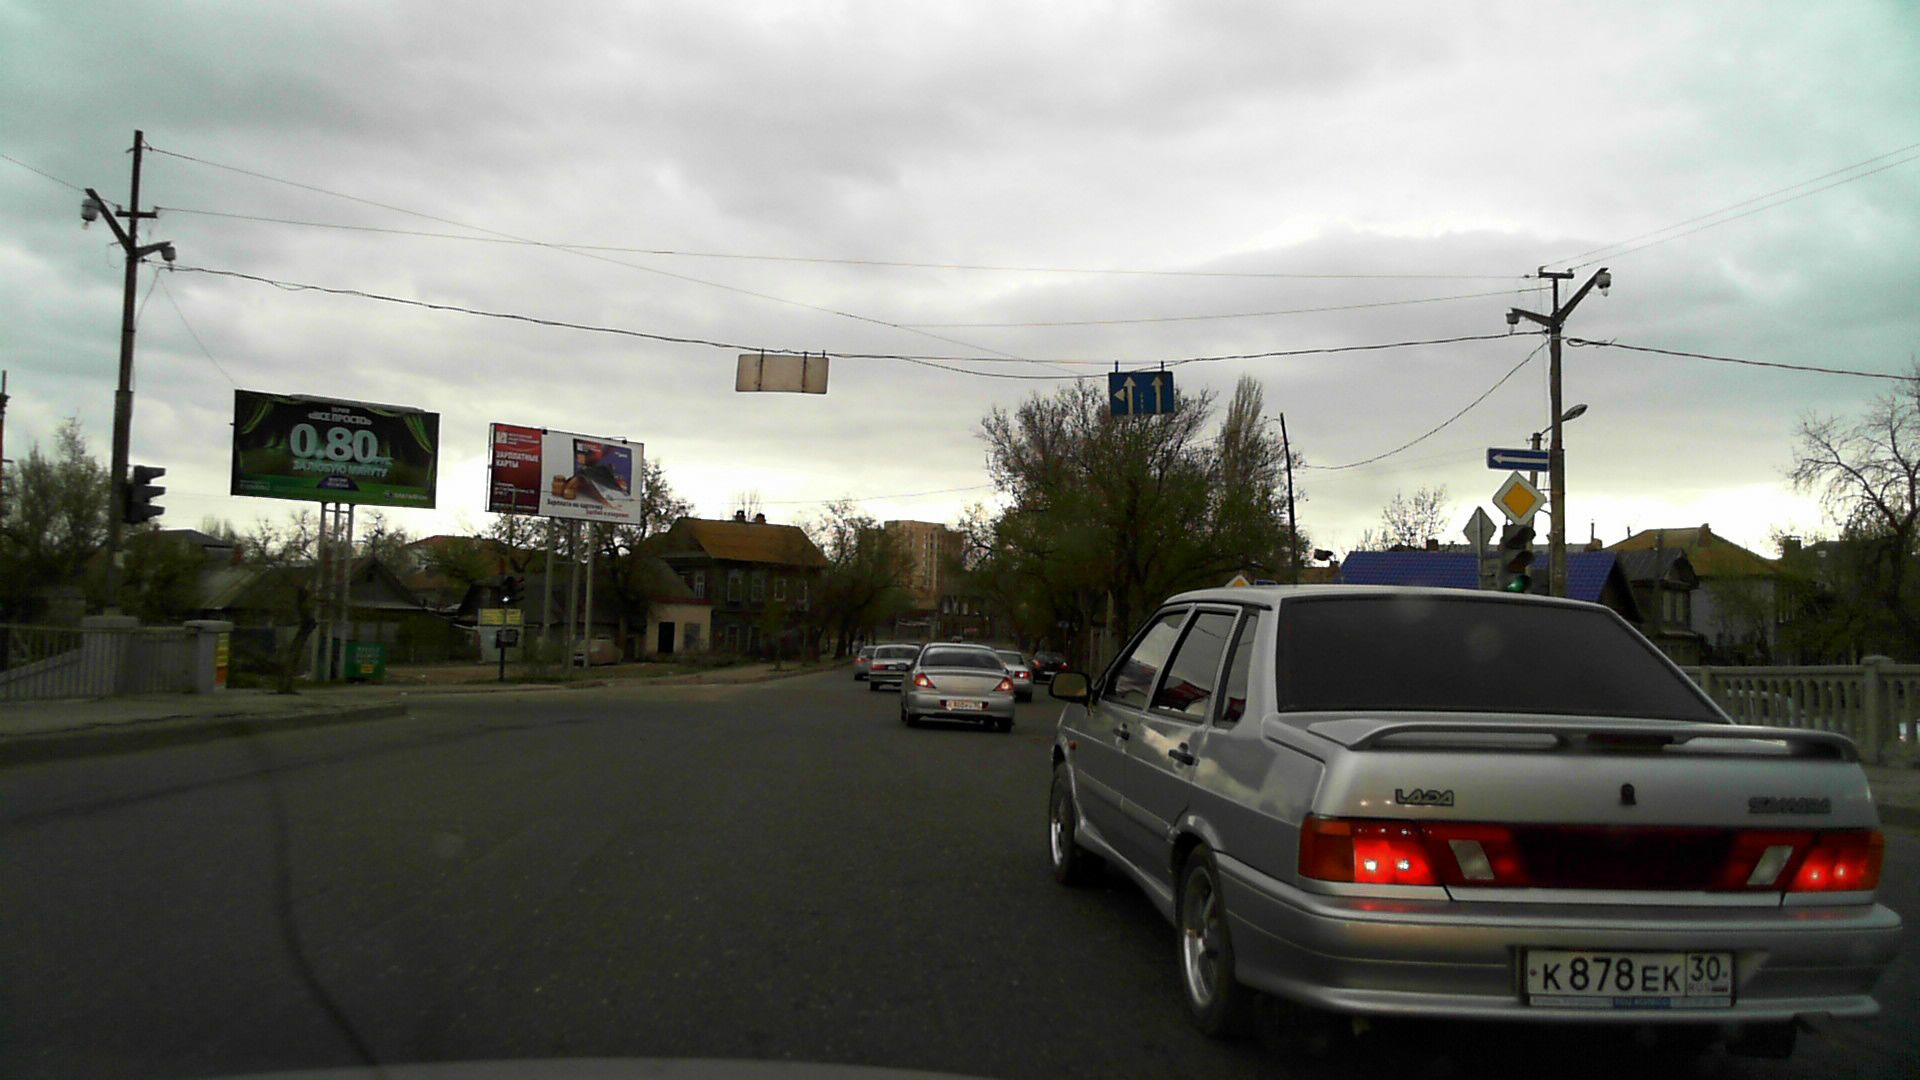One-Way Traffic: (1487, 448, 1549, 471)
